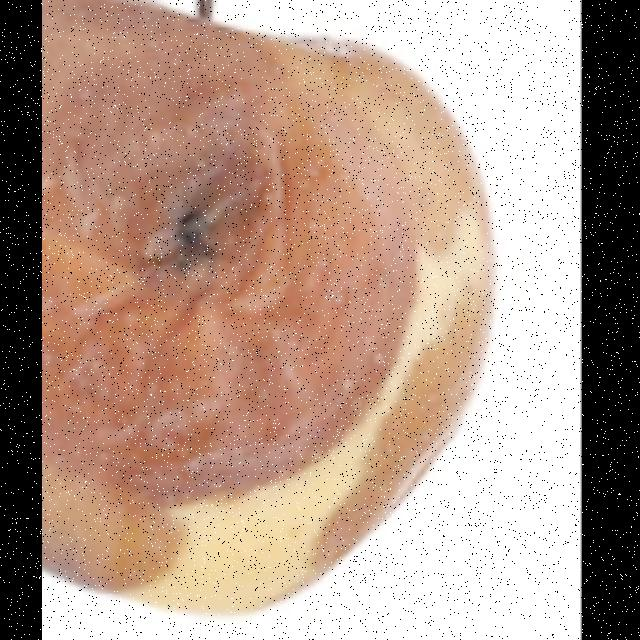Apel Tidak Segar: (41, 1, 507, 624)
